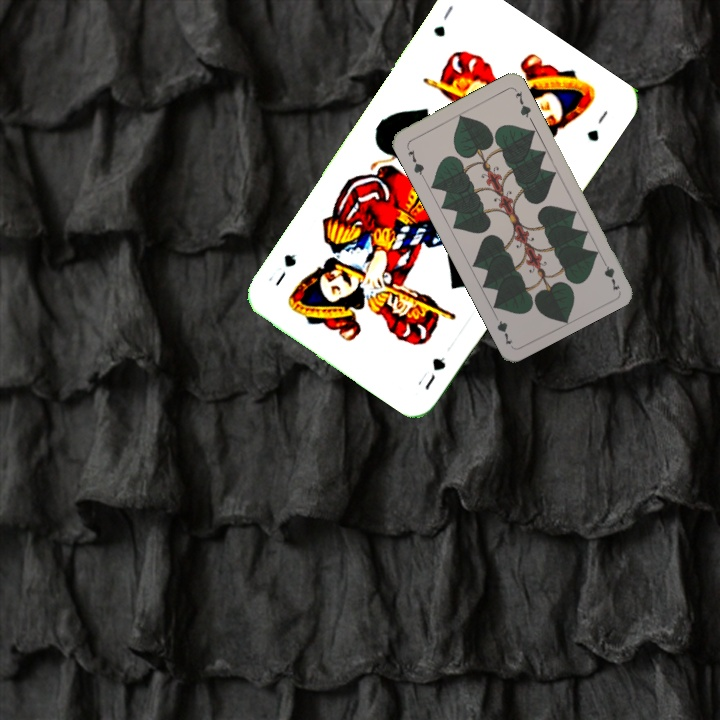G7: (597, 253, 622, 293), (403, 142, 427, 180)
GU: (413, 352, 449, 393), (429, 1, 456, 40)
